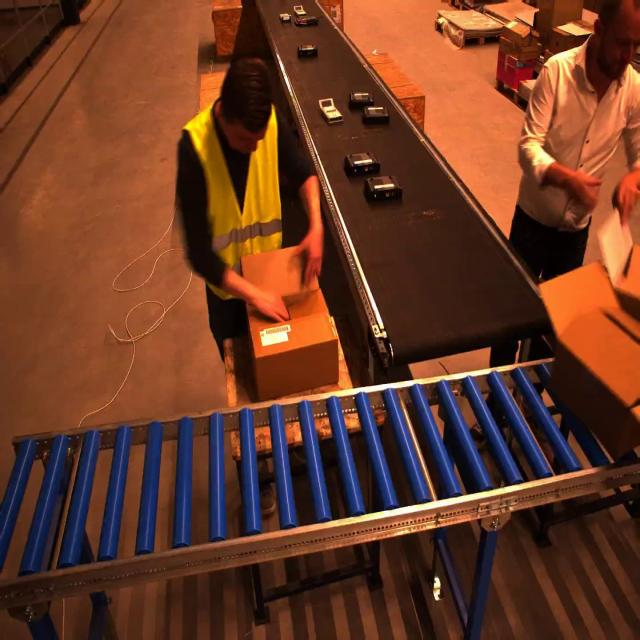box: (541, 261, 637, 455), (236, 242, 335, 403), (548, 19, 593, 55)
product: (364, 176, 403, 203), (344, 152, 379, 176), (318, 97, 343, 124), (362, 105, 390, 124), (348, 91, 374, 109), (293, 14, 318, 26), (297, 44, 317, 58), (293, 5, 306, 16), (279, 13, 291, 23)
